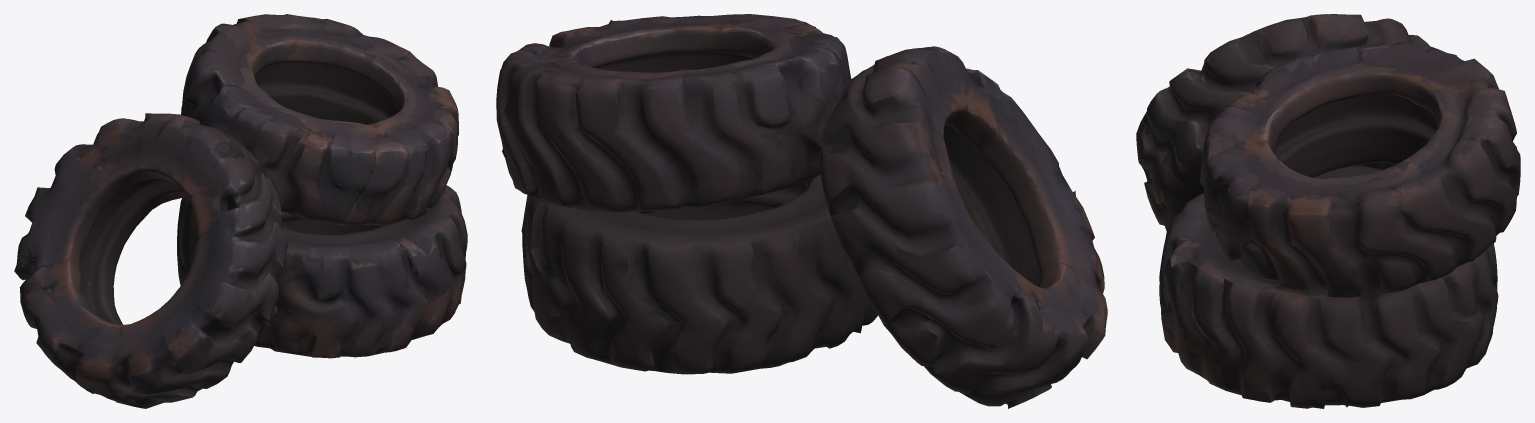
The model's file is tire_stack.glb.
3 renders of one model, left to right at view 1: azimuth 30°, elevation 25°; view 2: azimuth 150°, elevation 25°; view 3: azimuth 270°, elevation 25°, orthographic. The views are drawn at different scales.
Visible parts, largest first — view 1: tripo_node_37e2c635; view 2: tripo_node_37e2c635; view 3: tripo_node_37e2c635.
Boxes of the visible parts, x1=… form: tripo_node_37e2c635: x1=14, y1=14, x2=467, y2=408; tripo_node_37e2c635: x1=496, y1=14, x2=1107, y2=408; tripo_node_37e2c635: x1=1136, y1=14, x2=1520, y2=408.
Size of the model in its own units: 99.64 by 59.79 by 70.79.
Materials: 1 (1 with a texture image).
